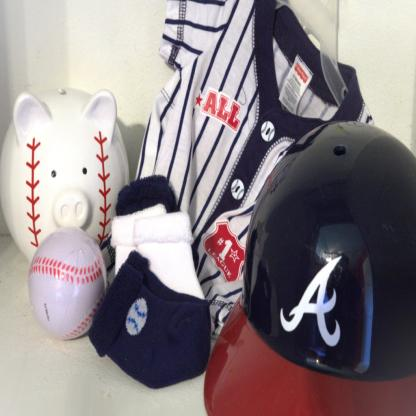Helmet: (244, 125, 404, 397)
